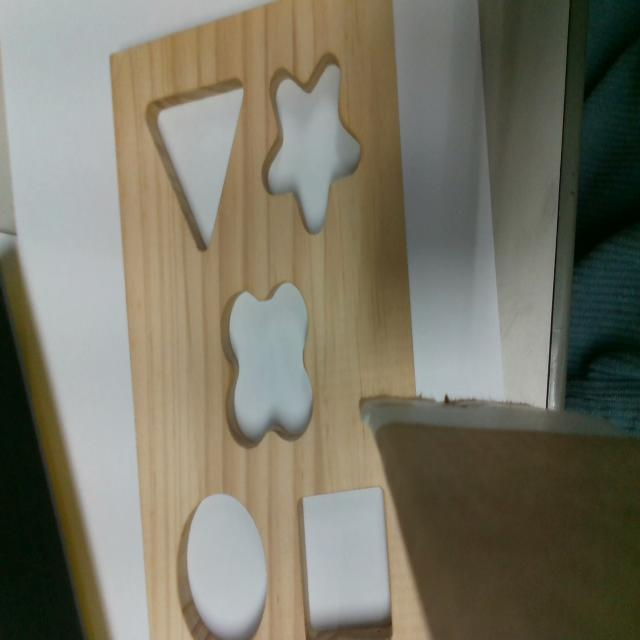circle: (177, 494, 268, 637)
flower: (221, 273, 314, 445)
square: (297, 484, 394, 636)
star: (263, 54, 361, 233)
triangle: (141, 75, 251, 255)
